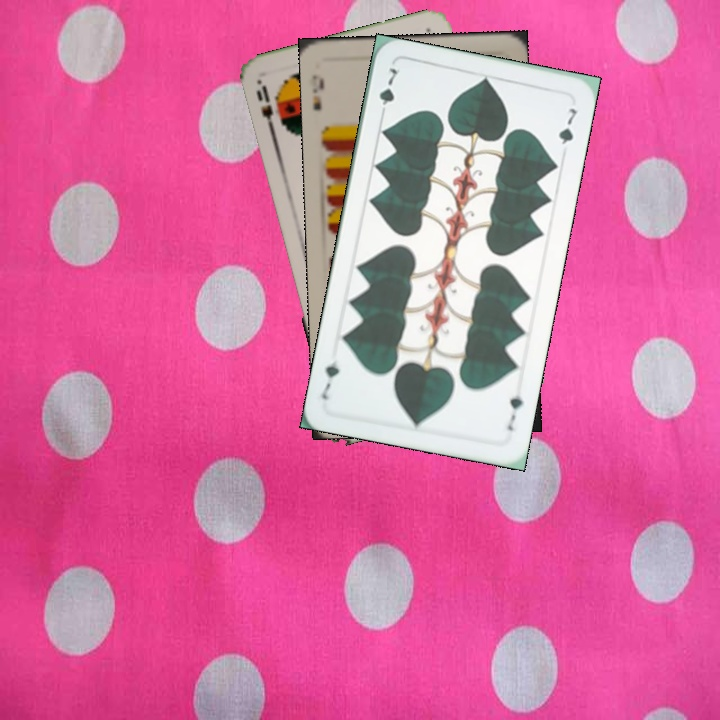E9: (308, 70, 326, 112)
G7: (375, 63, 400, 121), (503, 391, 526, 433)
SO: (252, 79, 278, 138)
